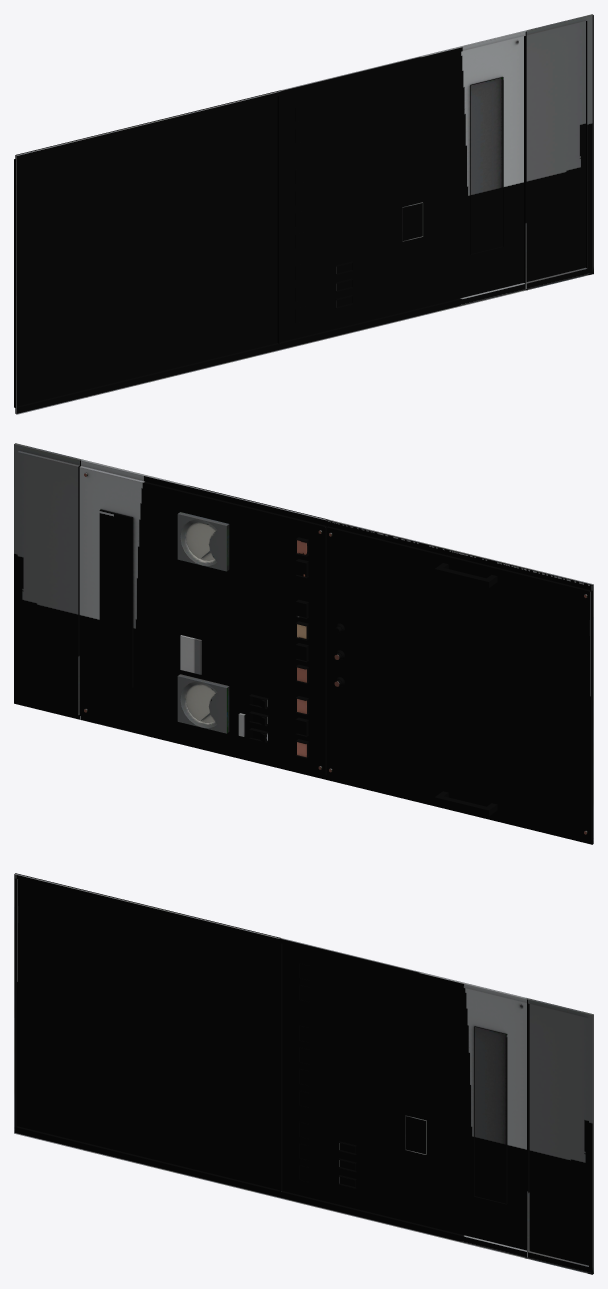
Rendered from props_mining_computer_industrial03.glb.
3 renders of one model, top to bottom at view 1: azimuth 30°, elevation 25°; view 2: azimuth 150°, elevation 25°; view 3: azimuth 330°, elevation 25°, orthographic.
Visible parts, largest first — view 1: models/props_mining/computer_industrial03; view 2: models/props_mining/computer_industrial03; view 3: models/props_mining/computer_industrial03.
Part boxes in pixels (x1,y1,x2,y2): models/props_mining/computer_industrial03: (14, 14, 593, 414); models/props_mining/computer_industrial03: (14, 443, 593, 844); models/props_mining/computer_industrial03: (14, 873, 593, 1274).
Size of the model in its own units: 112 by 48 by 3.75.
1 material, 1 textured.
